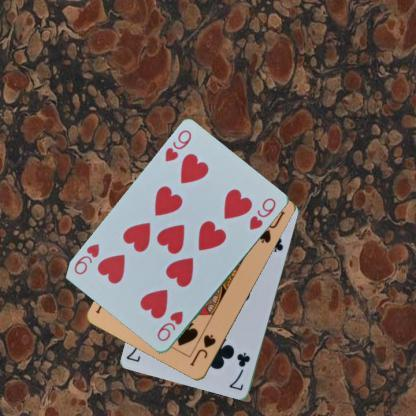7c: (226, 350, 251, 392)
9h: (162, 127, 193, 164), (154, 308, 185, 344)
Js: (187, 332, 217, 368)
